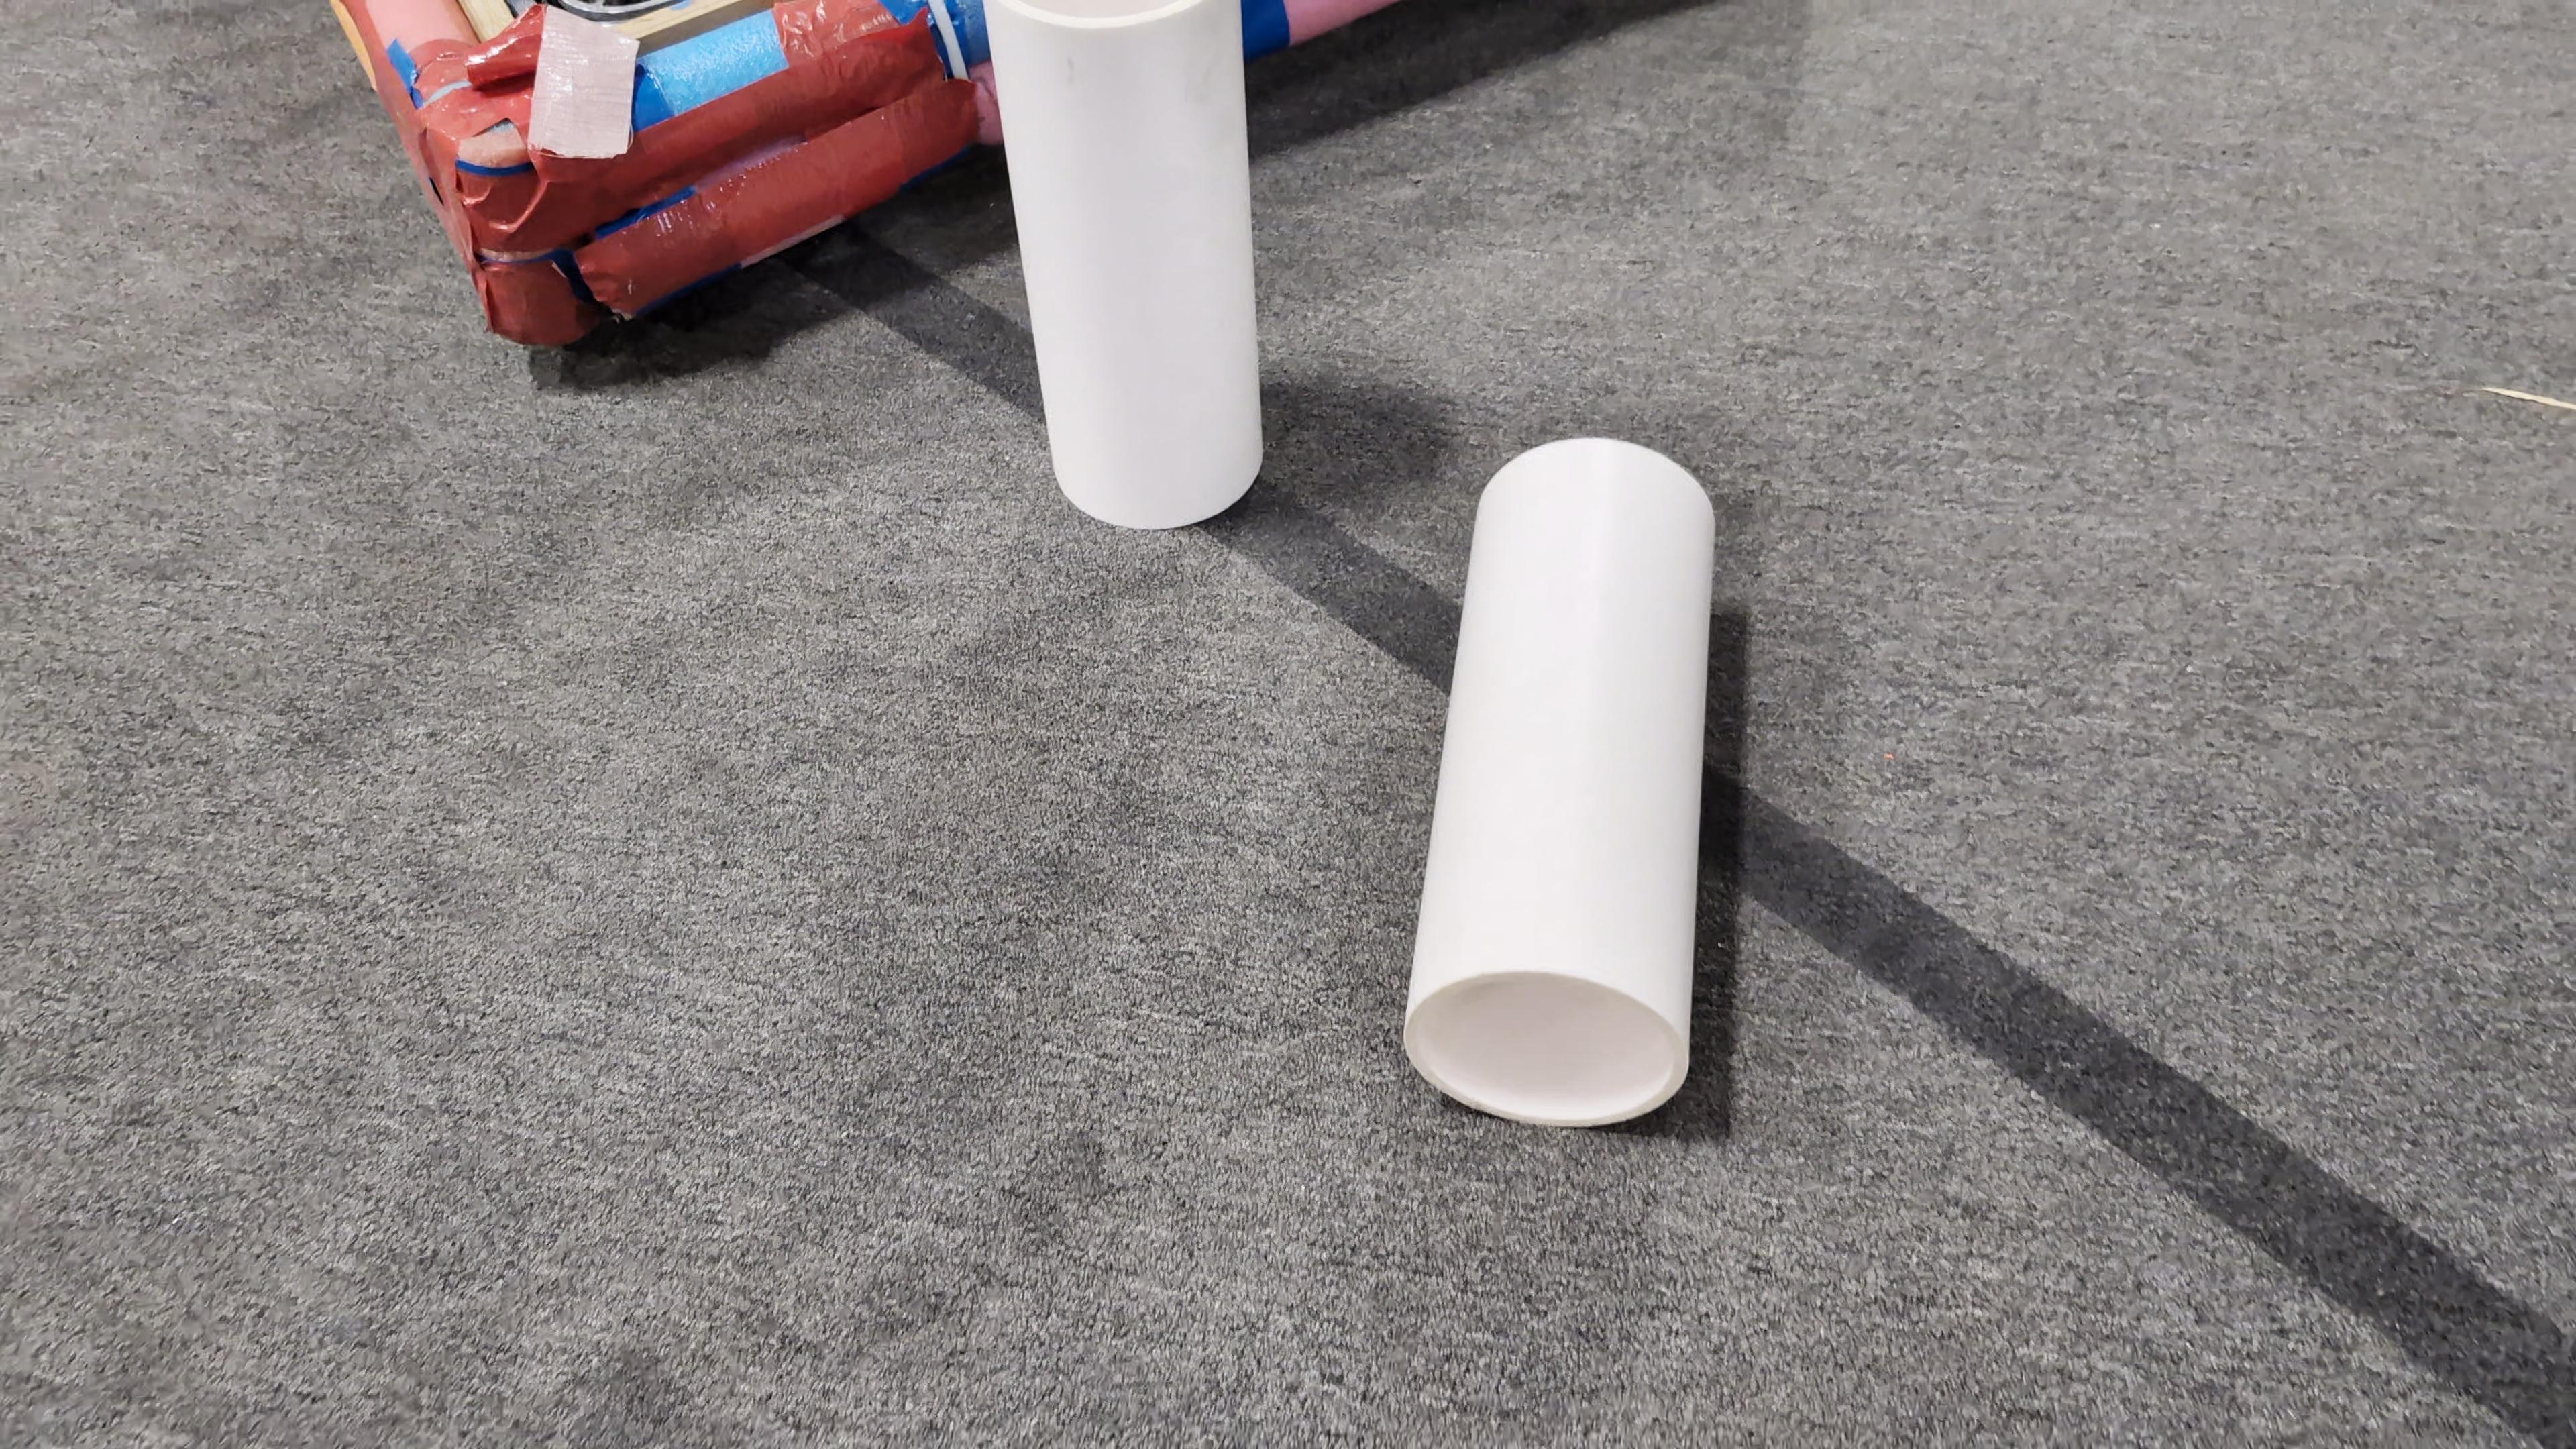coral: (1398, 432, 1718, 1127), (977, 4, 1267, 527)
